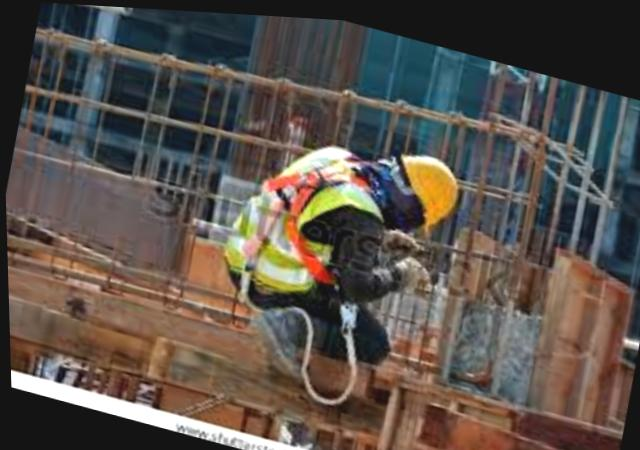helmet: (377, 135, 473, 234)
vest: (187, 106, 387, 329)
